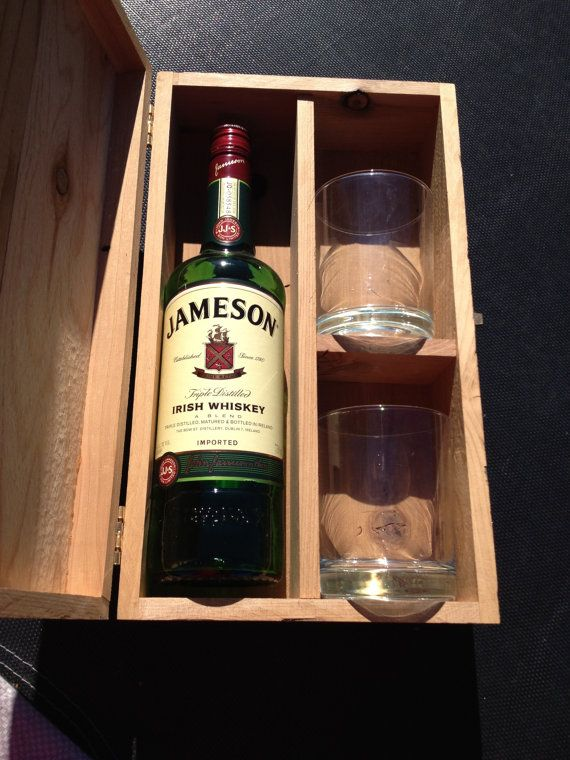Jameson: (141, 116, 295, 609)
